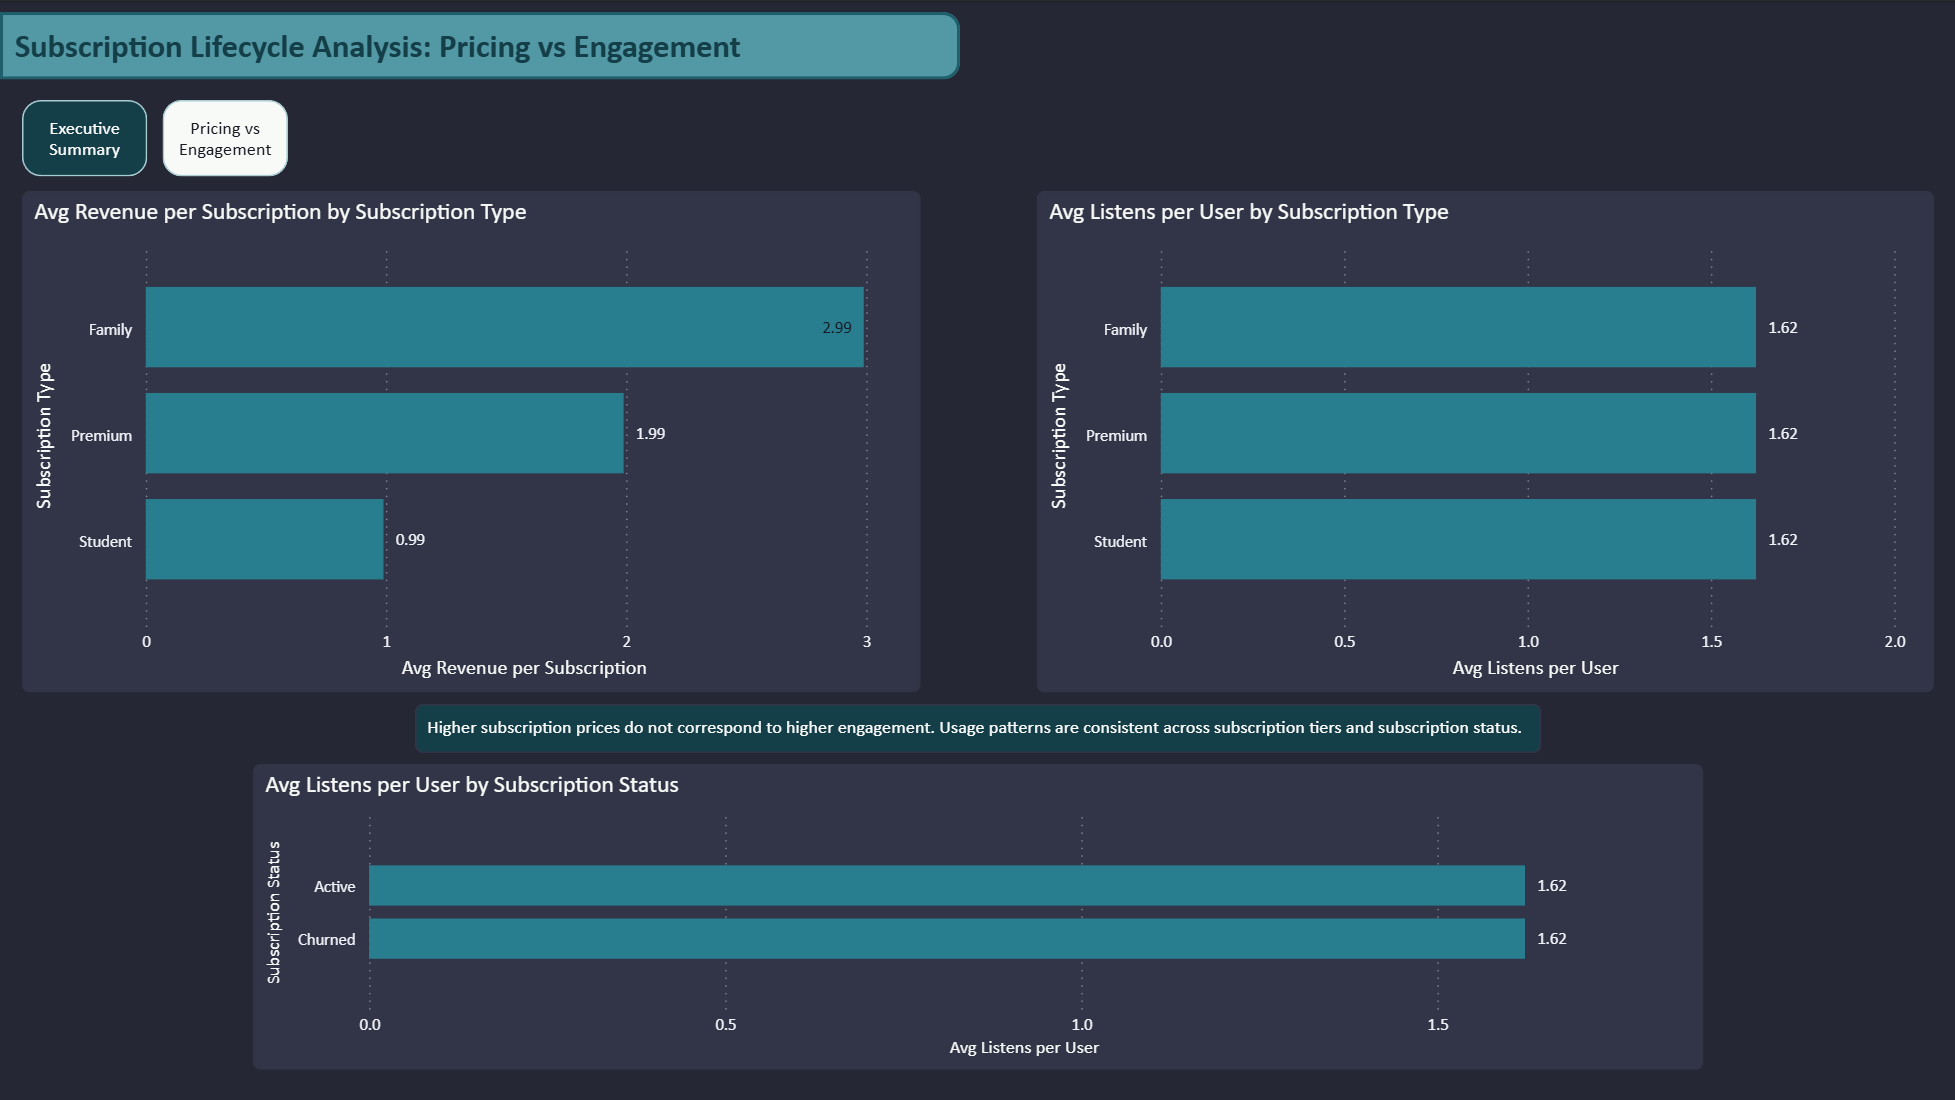

What the dashboard file says about the page in this screenshot:
{"tool":"powerbi","page":{"name":"Pricing vs Engagement","canvas":[1280,720],"ordinal":1},"visuals":[{"type":"clusteredBarChart","fields":{"Category":["bi_subscriptions.subscription_type"],"Y":["bi_engagement.Avg Listens per User"]},"box":[678.6,124.3,587,327.9],"z":0},{"type":"clusteredBarChart","fields":{"Y":["bi_payments.Avg Revenue per Subscription"],"Category":["bi_payments.subscription_type"]},"box":[14.4,124.3,587.6,327.9],"z":1000},{"type":"clusteredBarChart","fields":{"Category":["bi_subscriptions.Subscription Status"],"Y":["bi_engagement.Avg Listens per User"]},"box":[165.6,499.3,948.9,200.2],"z":2000},{"type":"textbox","box":[271.6,460,736.9,32.1],"z":3000},{"type":"pageNavigator","box":[14.7,64.9,176,50.2],"z":4000},{"type":"shape","box":[0,7.4,628.3,44.2],"z":5000},{"type":"textbox","box":[4.6,11.8,611.2,39.9],"z":6000}]}

Visuals, with their boxes in screenshot pixels (x1, y1, x2, y2), scaled from the page's 1280x720 canvas onto the 1955x1100 screenshot:
clusteredBarChart - bi_subscriptions.subscription_type x bi_engagement.Avg Listens per User: <box>1036,190,1933,691</box>
clusteredBarChart - bi_payments.Avg Revenue per Subscription x bi_payments.subscription_type: <box>22,190,919,691</box>
clusteredBarChart - bi_subscriptions.Subscription Status x bi_engagement.Avg Listens per User: <box>253,763,1702,1069</box>
textbox: <box>415,703,1540,752</box>
pageNavigator: <box>22,99,291,176</box>
shape: <box>0,11,960,79</box>
textbox: <box>7,18,941,79</box>
